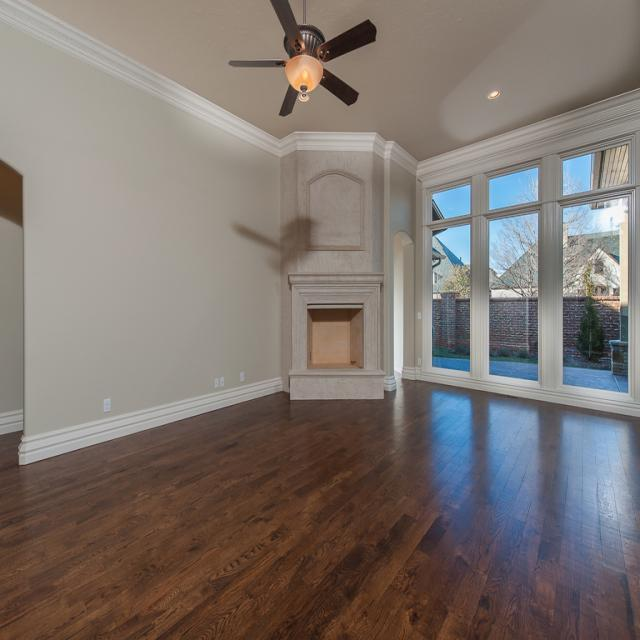fan_off: (223, 0, 362, 114)
